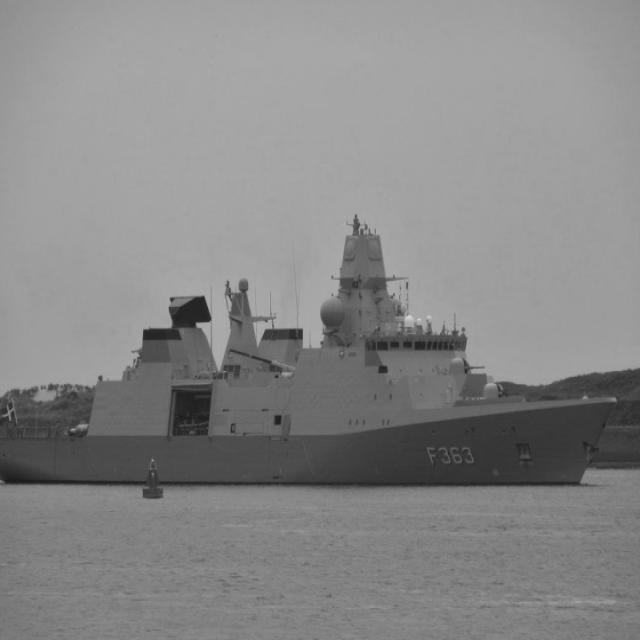Fragata: (1, 207, 623, 491)
